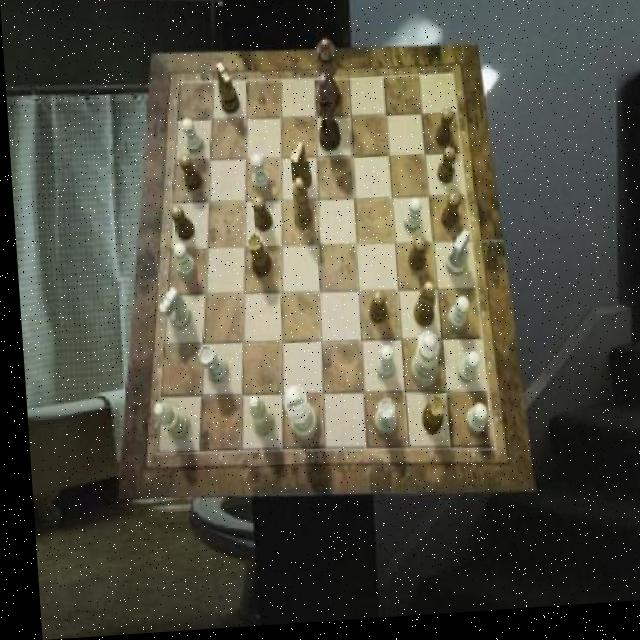bishop: (407, 288, 433, 334), (290, 181, 310, 236)
black-bishop: (311, 77, 338, 158)
black-king: (214, 65, 238, 118), (287, 144, 309, 194)
black-knight: (175, 156, 200, 193), (165, 207, 190, 243), (435, 198, 458, 237), (430, 114, 452, 153), (432, 152, 454, 189), (402, 242, 423, 279), (249, 199, 270, 236), (364, 293, 383, 329)
black-pawn: (313, 41, 339, 116)
black-queen: (243, 237, 268, 282), (414, 401, 440, 440)
black-rook: (148, 402, 185, 443), (242, 398, 269, 442)
white-bishop: (276, 388, 311, 444)
white-king: (154, 288, 187, 332), (440, 236, 468, 284)
white-knight: (440, 301, 465, 337), (169, 245, 192, 282), (449, 356, 474, 390), (178, 121, 201, 156), (399, 203, 420, 239), (247, 157, 266, 196), (369, 350, 390, 385), (459, 410, 483, 440)
white-pawn: (402, 337, 436, 394)
white-queen: (192, 346, 222, 388), (365, 403, 390, 441)
